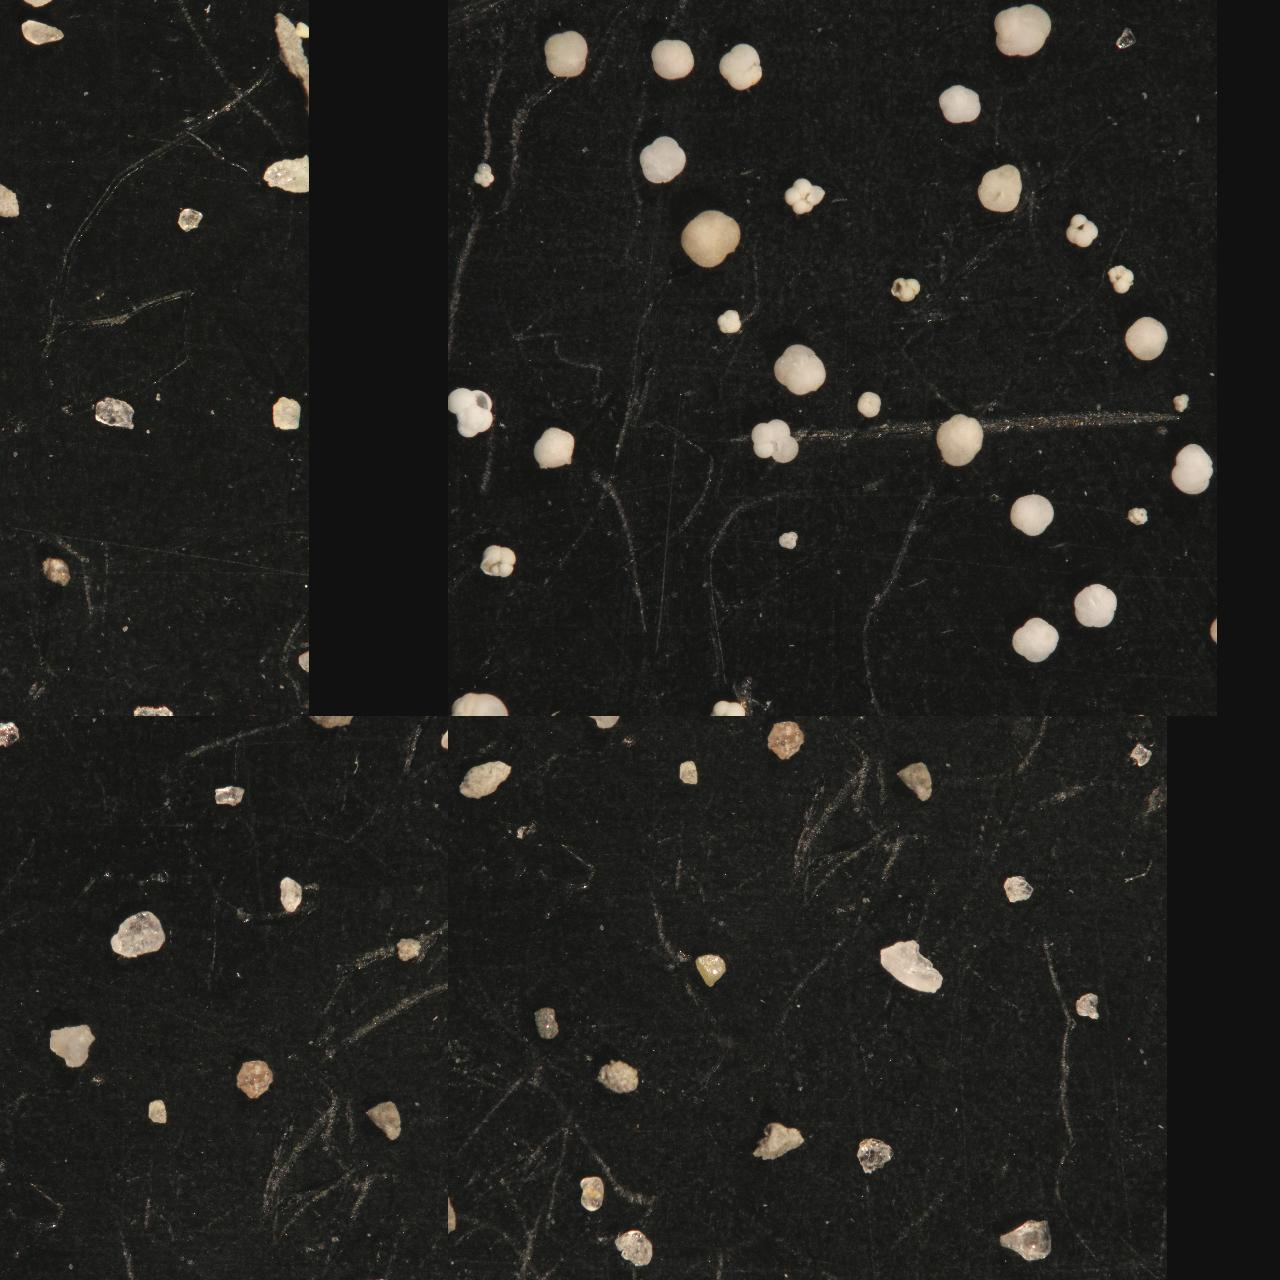Sediment: (880, 940, 946, 995), (109, 908, 165, 960), (459, 756, 512, 802), (998, 1219, 1051, 1262), (753, 1121, 806, 1164), (448, 874, 481, 942), (48, 1024, 96, 1070), (0, 1214, 32, 1280), (14, 0, 67, 38), (264, 156, 309, 197), (0, 508, 27, 576), (597, 1058, 641, 1097), (0, 67, 21, 148), (365, 1101, 403, 1144), (856, 1135, 894, 1177), (896, 762, 934, 804), (767, 719, 805, 761), (0, 666, 32, 716), (236, 1058, 274, 1099), (614, 1227, 655, 1266), (0, 166, 28, 220), (110, 0, 171, 25), (95, 397, 137, 433), (639, 716, 696, 742), (20, 19, 68, 48), (0, 397, 33, 440), (0, 98, 27, 149), (971, 716, 1026, 741), (0, 622, 23, 678), (300, 716, 358, 738), (831, 716, 888, 738), (0, 0, 33, 38), (272, 396, 304, 434), (0, 1095, 26, 1141), (0, 716, 25, 763), (696, 953, 728, 989), (579, 716, 627, 738), (579, 1175, 606, 1213), (1002, 874, 1035, 906), (278, 874, 304, 913), (41, 557, 73, 587), (123, 716, 164, 740), (654, 716, 695, 740), (0, 676, 23, 716), (0, 0, 28, 33), (998, 716, 1042, 736), (532, 1008, 559, 1041), (252, 0, 290, 23), (448, 1193, 464, 1245), (0, 142, 19, 185), (0, 461, 22, 497), (0, 808, 22, 844), (1076, 992, 1102, 1022), (0, 29, 16, 76), (396, 937, 423, 964), (178, 206, 204, 234), (212, 784, 245, 805), (190, 716, 229, 734), (721, 716, 760, 734), (448, 716, 474, 741), (0, 720, 20, 751), (0, 287, 21, 316), (512, 716, 551, 731), (1131, 743, 1153, 769), (149, 1098, 170, 1125), (680, 760, 701, 787), (0, 448, 15, 484), (132, 703, 173, 716), (1117, 27, 1137, 52), (809, 716, 835, 735), (0, 0, 19, 25), (0, 321, 16, 348), (1068, 716, 1101, 729), (0, 692, 16, 716), (0, 0, 20, 20), (0, 372, 14, 400), (448, 716, 470, 734), (927, 716, 954, 730), (0, 197, 12, 225), (11, 0, 33, 14), (743, 716, 776, 726), (0, 999, 15, 1017), (0, 0, 18, 14), (0, 0, 13, 19), (448, 716, 463, 726)
planktic: (681, 209, 743, 270), (993, 1, 1053, 59), (772, 342, 828, 396), (935, 411, 987, 469), (638, 132, 688, 188), (1013, 617, 1063, 666), (448, 386, 493, 440), (717, 41, 764, 91), (978, 163, 1022, 216), (1171, 442, 1213, 496), (1073, 583, 1121, 629), (751, 418, 799, 464), (543, 30, 588, 79), (1125, 315, 1171, 362), (1009, 493, 1056, 537), (938, 82, 982, 125), (649, 39, 694, 81), (535, 425, 576, 470), (783, 177, 826, 216), (448, 692, 510, 716), (1065, 211, 1099, 248), (862, 0, 913, 25), (481, 544, 515, 579), (1107, 265, 1135, 295), (892, 275, 922, 302), (708, 697, 748, 716), (858, 390, 881, 420), (719, 309, 742, 335), (474, 162, 495, 189), (1126, 504, 1150, 527), (1171, 390, 1192, 415), (779, 531, 798, 550), (666, 0, 690, 11)
